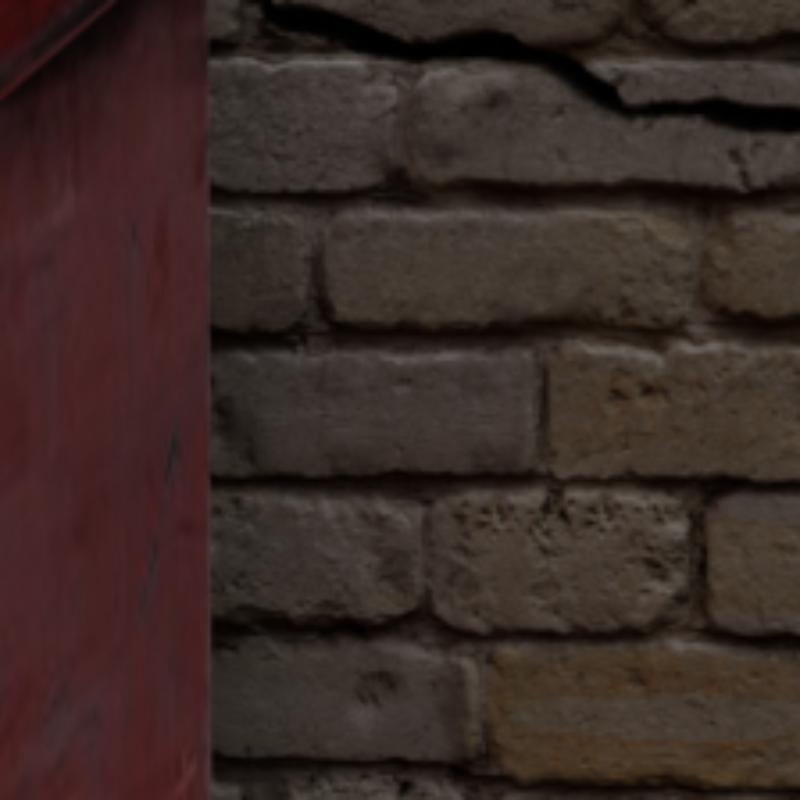pothole: (258, 1, 796, 129)
